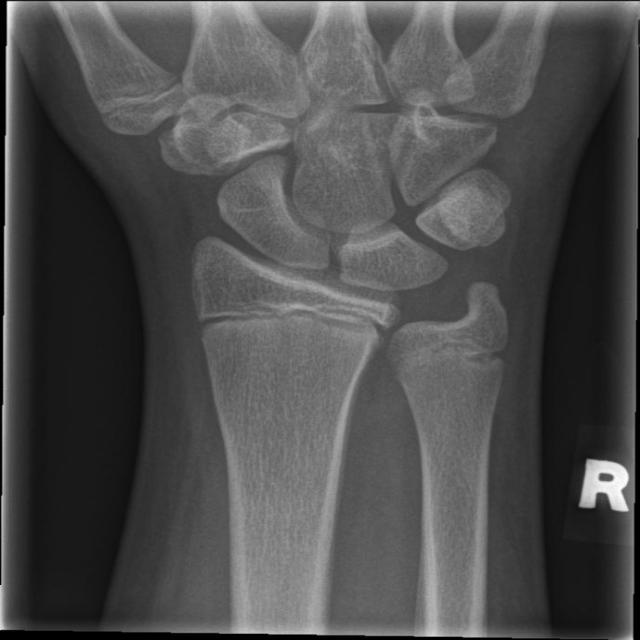fracture: (184, 286, 401, 358), (358, 318, 527, 386)
